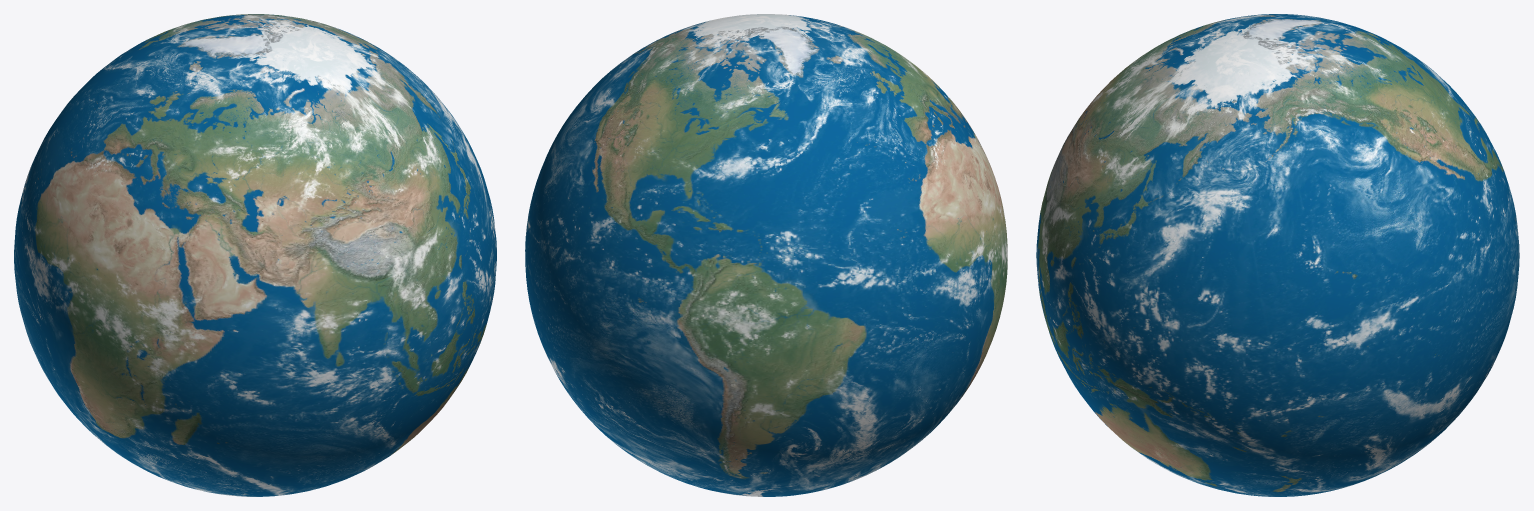
The model's file is globe-hd.glb.
3 renders of one model, left to right at view 1: azimuth 30°, elevation 25°; view 2: azimuth 150°, elevation 25°; view 3: azimuth 270°, elevation 25°, orthographic.
Visible parts, largest first — view 1: Sphere; view 2: Sphere; view 3: Sphere.
Part boxes in pixels (<box>): Sphere: <box>14,14,496,496</box>; Sphere: <box>525,14,1007,496</box>; Sphere: <box>1036,14,1519,496</box>.
Bounding box in the file's own units: 15.51 × 15.51 × 15.51.
1 material, 1 textured.
